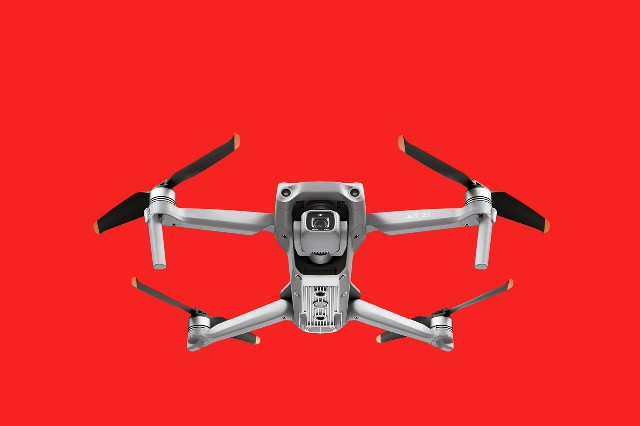maybay_khongnguoilai: (92, 134, 546, 357)
